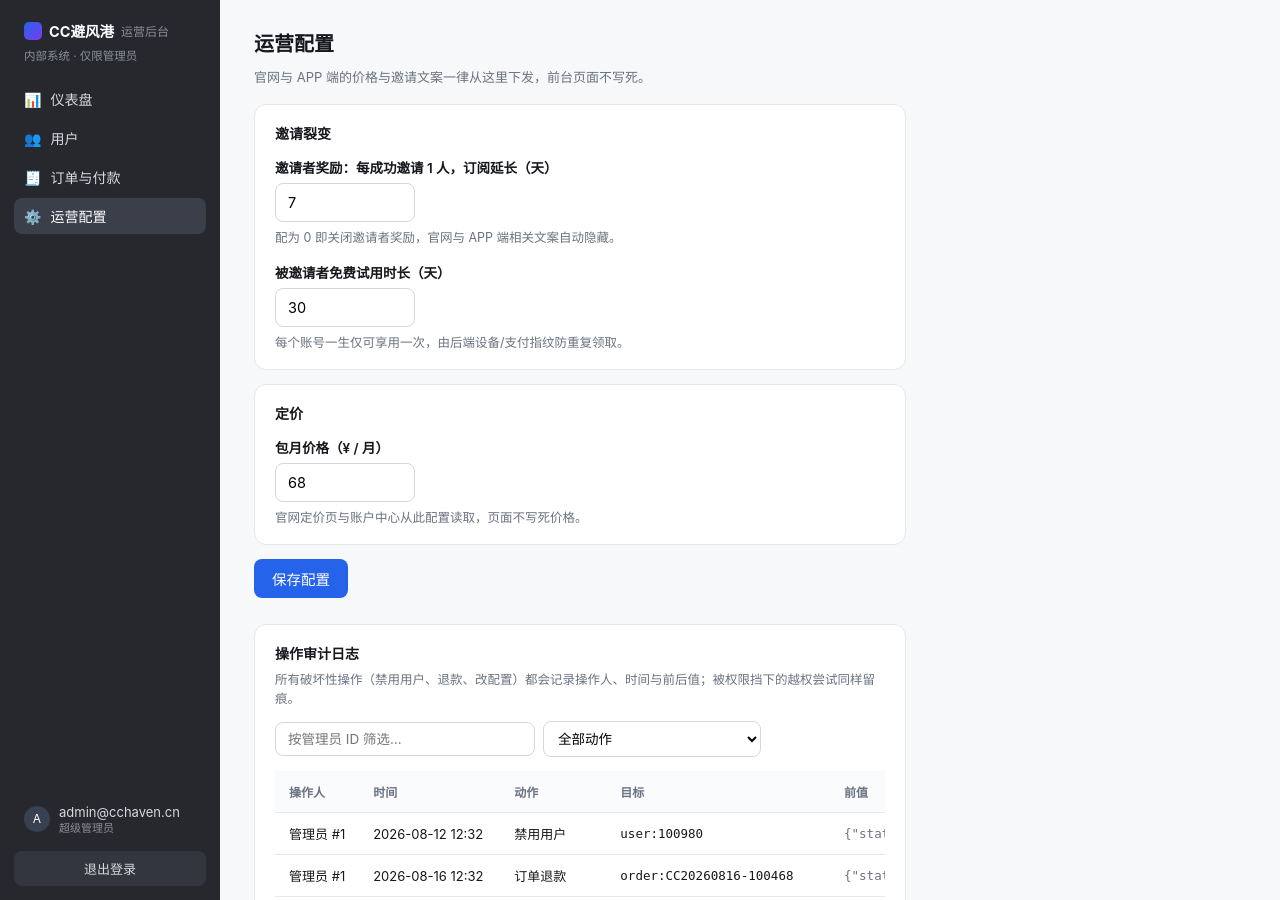
Test: 运营配置页 › 保存后提示实时生效，并按点号 key 提交
The width and height of the screenshot is (1280, 900).
Replace the text in the field labelled "邀请者奖励：每成功邀请 1 人，订阅延长（天）" with "14" at {"x": 345, "y": 202}, box top-left (275, 183), bottom-right (415, 222)
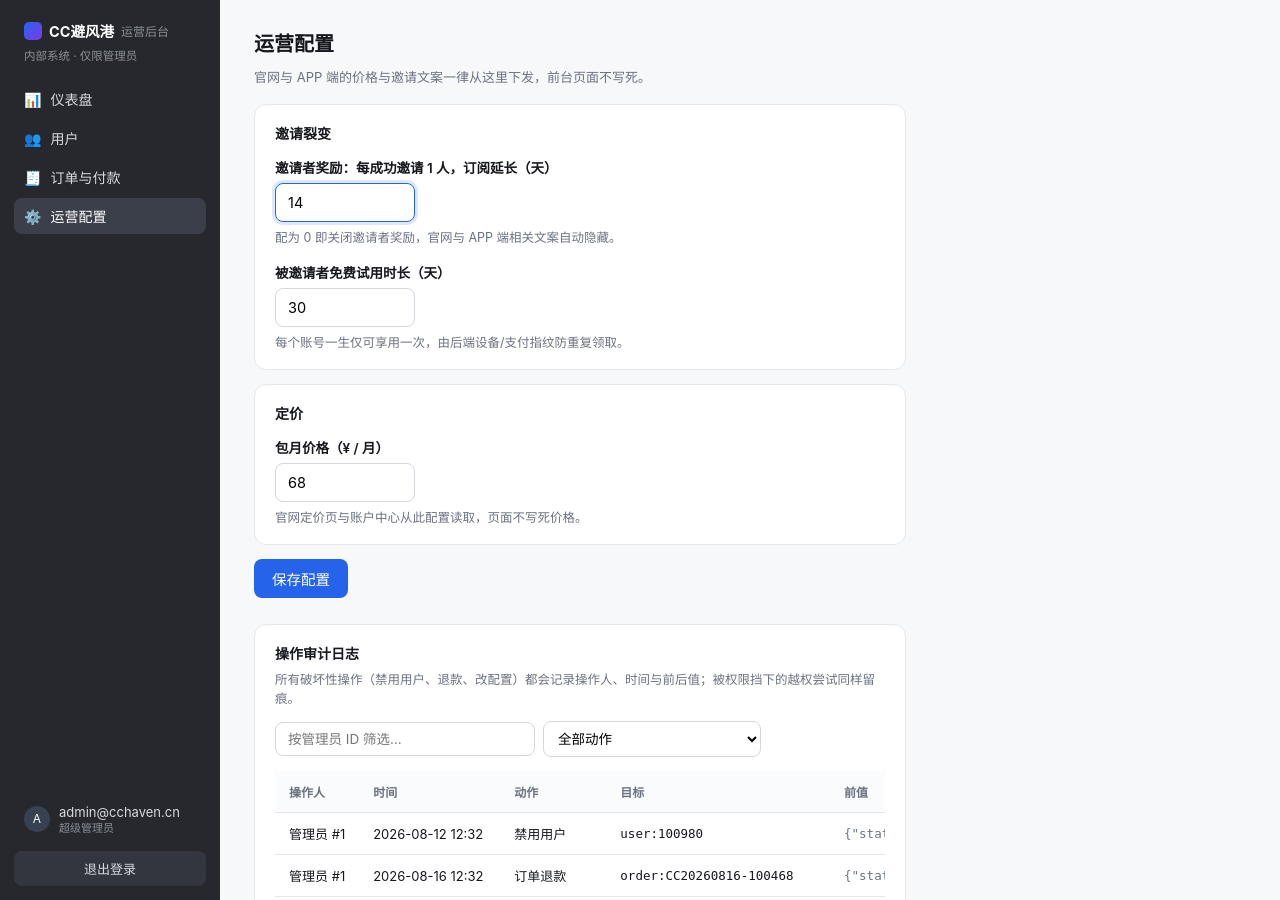
Click the button "保存配置" at {"x": 301, "y": 578}, box top-left (254, 559), bottom-right (348, 598)
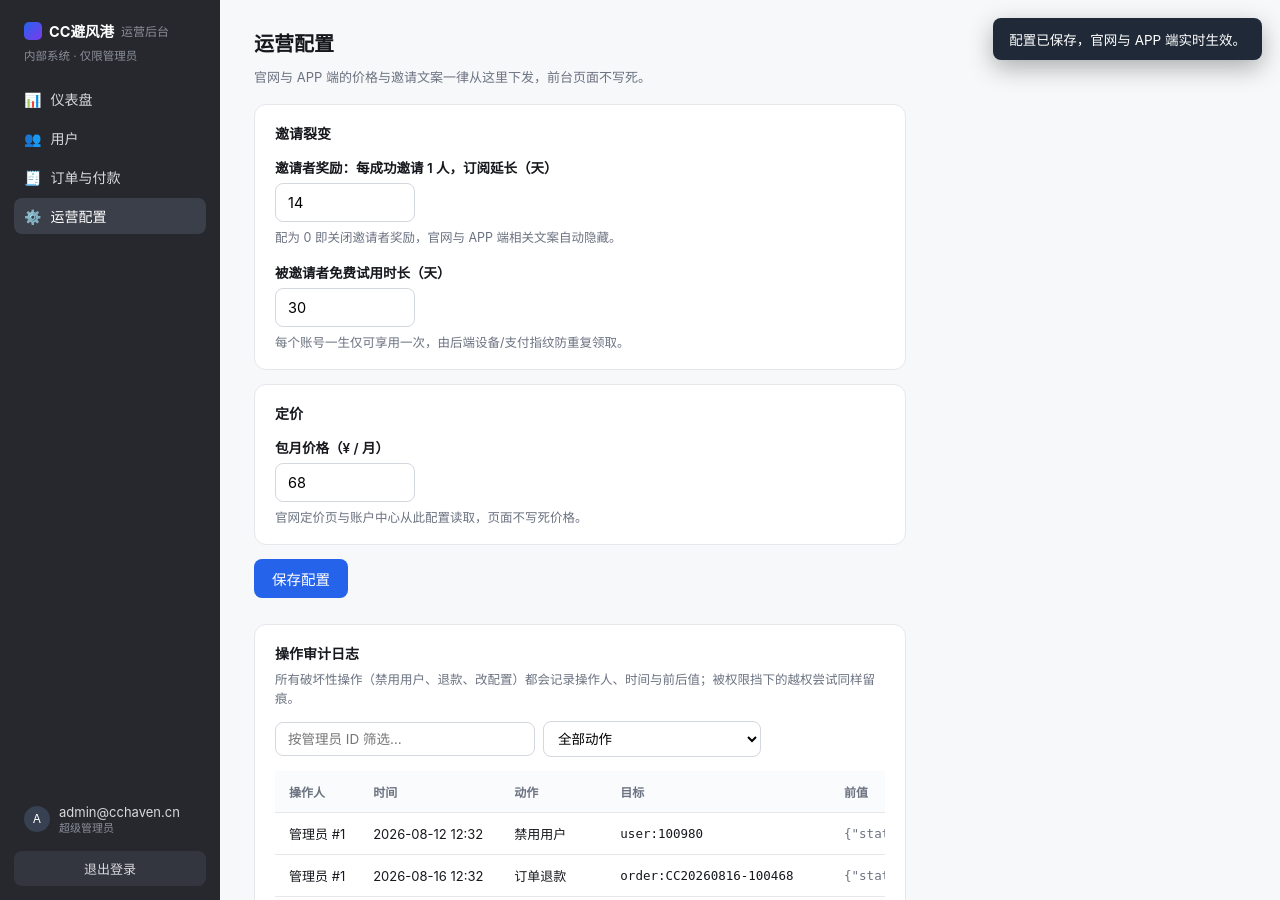
Now the text "配置已保存，官网与 APP 端实时生效。" is shown, box top-left (993, 18), bottom-right (1262, 60)
